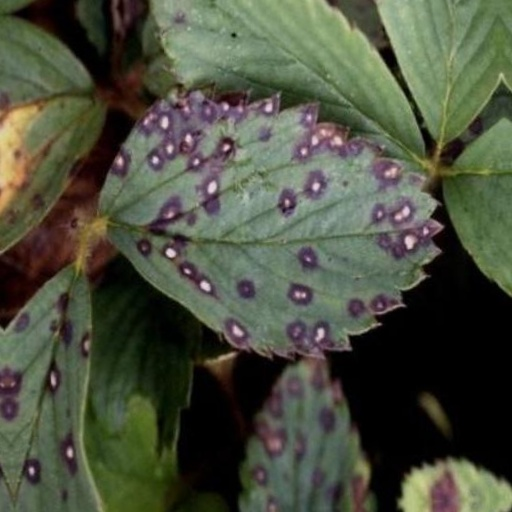Leaf Spot: (96, 147, 448, 434), (0, 271, 115, 511), (223, 0, 362, 153), (382, 0, 511, 44)
